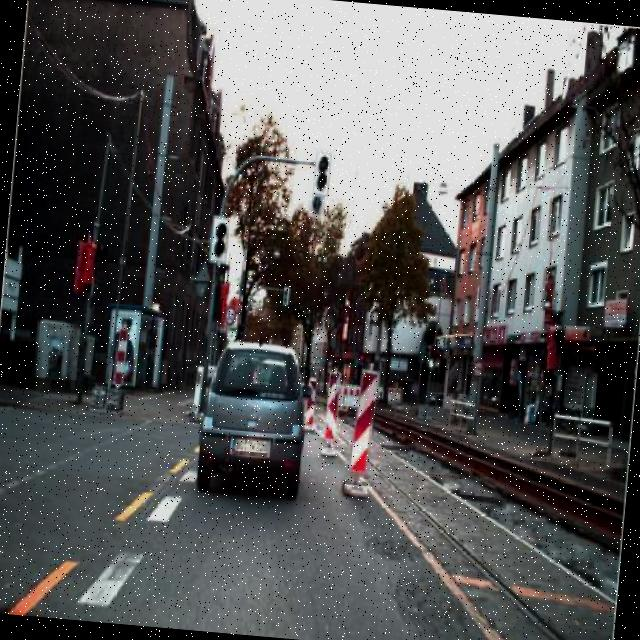Ograniczenie predkosci do 30: (222, 304, 238, 328)
